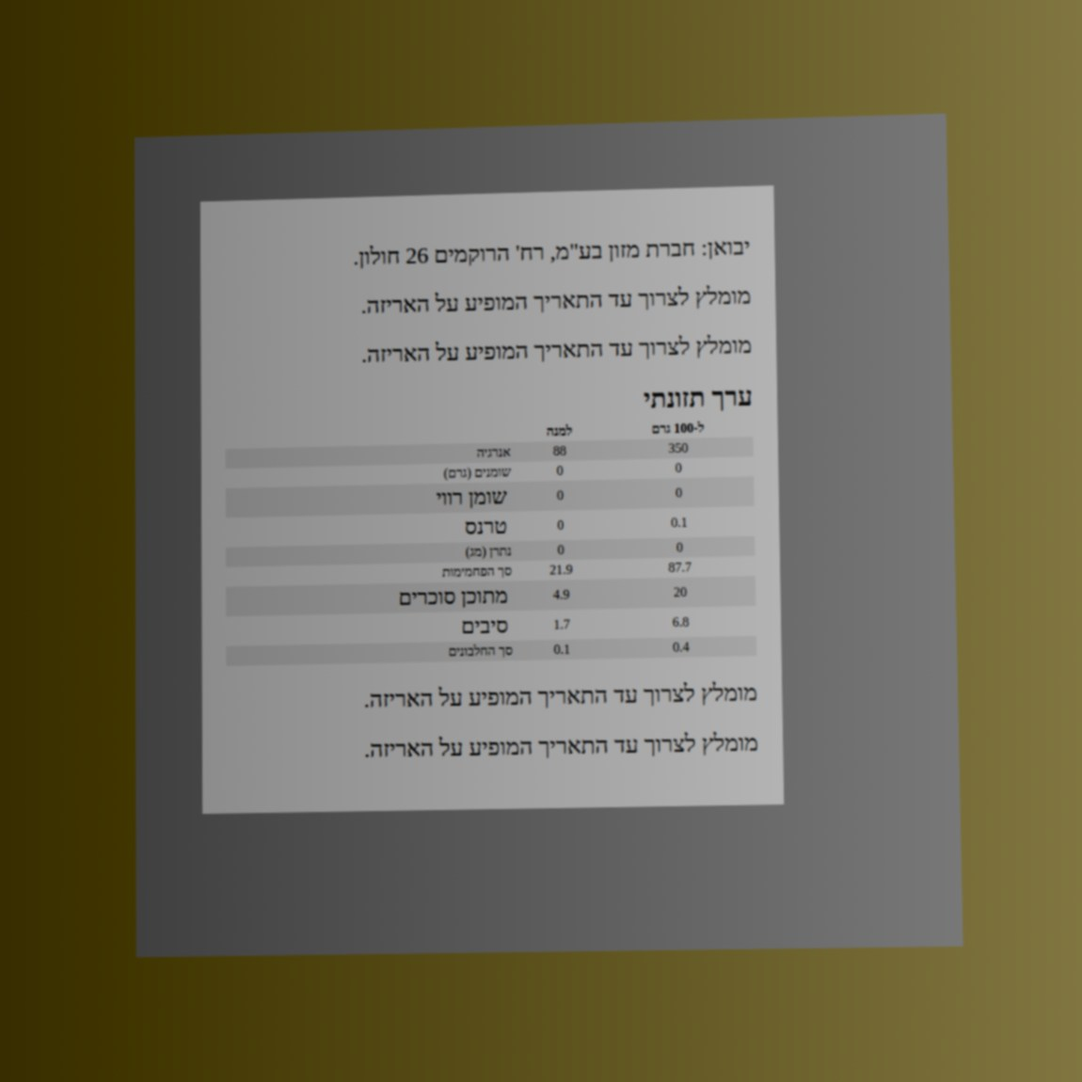carbs: (666, 558, 693, 576)
energy: (666, 439, 690, 457)
fat: (673, 459, 683, 477)
protein: (671, 638, 691, 656)
